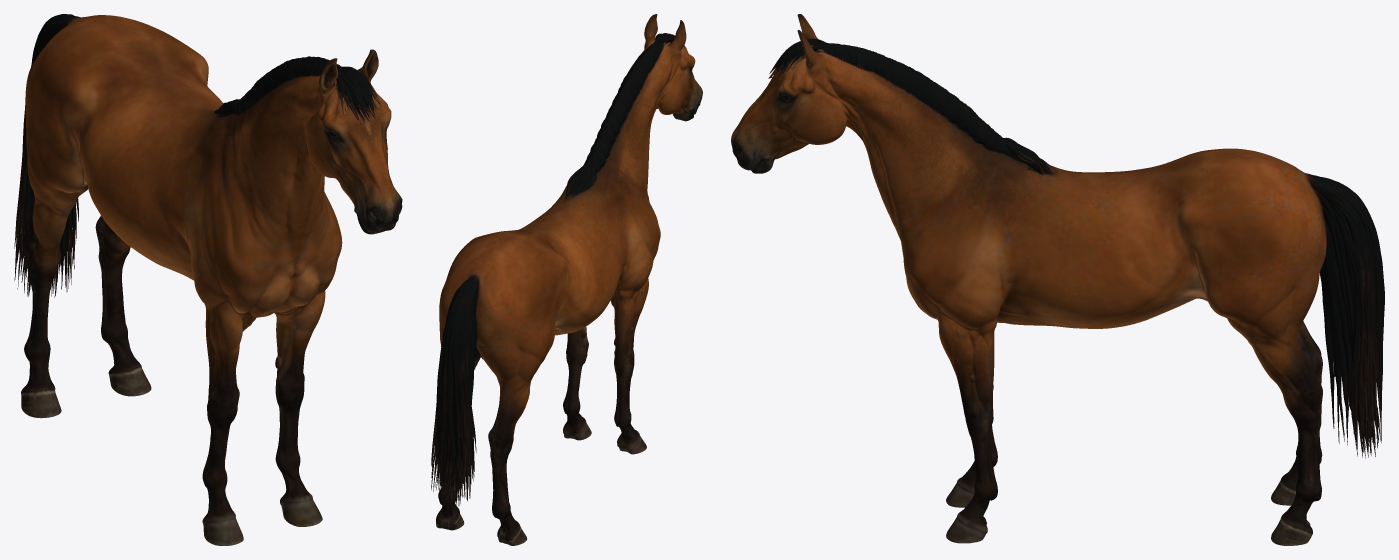
File: CC0_Horse_Grab3D.glb
The picture shows the model from 3 angles, left to right: view 1: azimuth 30°, elevation 25°; view 2: azimuth 150°, elevation 25°; view 3: azimuth 270°, elevation 25°; orthographic projection. The views are drawn at different scales.
Visible parts, largest first — view 1: horse; view 2: horse; view 3: horse.
Boxes of the visible parts, left/top/right/bottom form: horse: left=14, top=14, right=402, bottom=545; horse: left=431, top=14, right=702, bottom=545; horse: left=731, top=14, right=1384, bottom=545.
Size of the model in its own units: 0.5828 by 2.01 by 2.4.
1 material, 1 textured.
